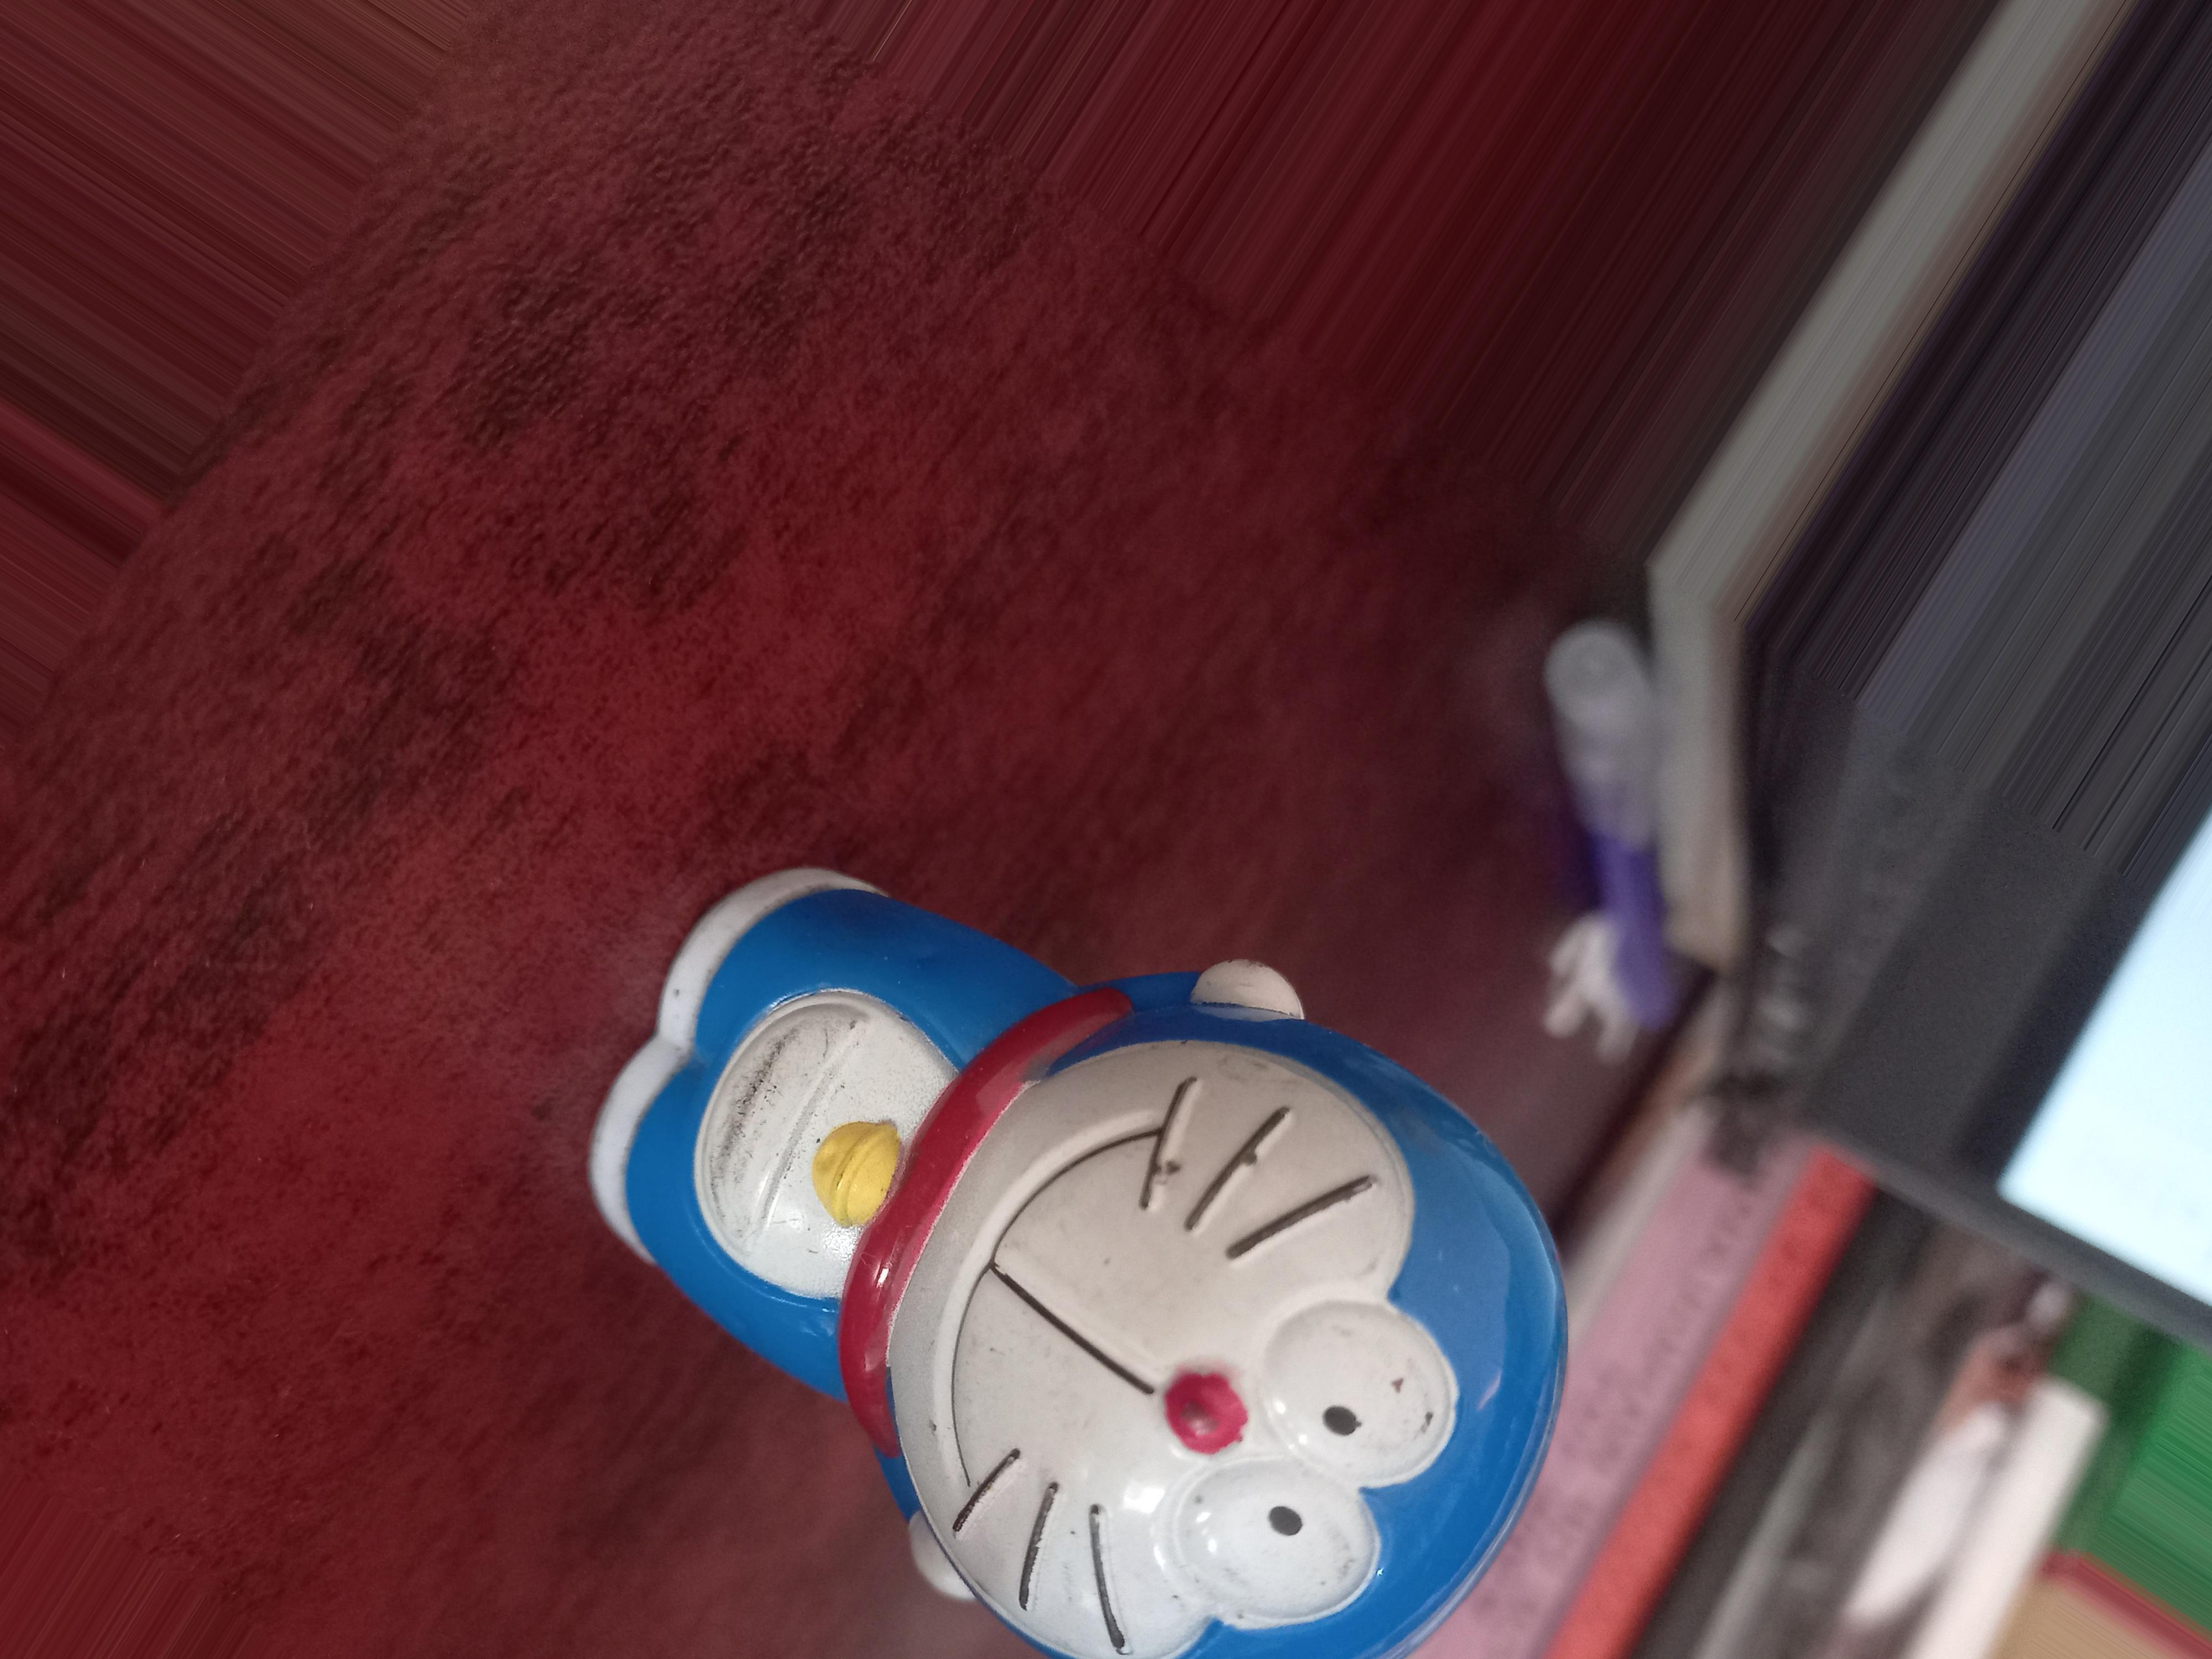doraemon: (610, 894, 1686, 1659)
